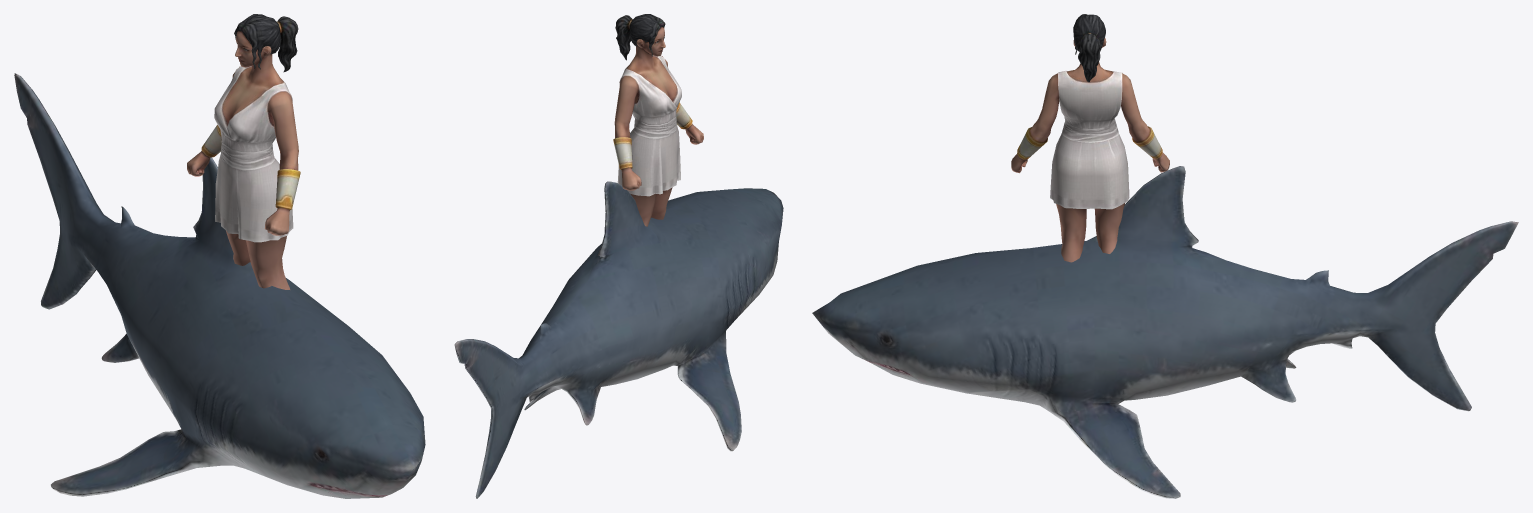
File: 247-nereid.glb
3 views of the same model, side by side, from view 1: azimuth 30°, elevation 25°; view 2: azimuth 150°, elevation 25°; view 3: azimuth 270°, elevation 25° (orthographic). The views are drawn at different scales.
Size of the model in its own units: 1.97 by 2.83 by 4.34.
2 materials, 2 textured.
